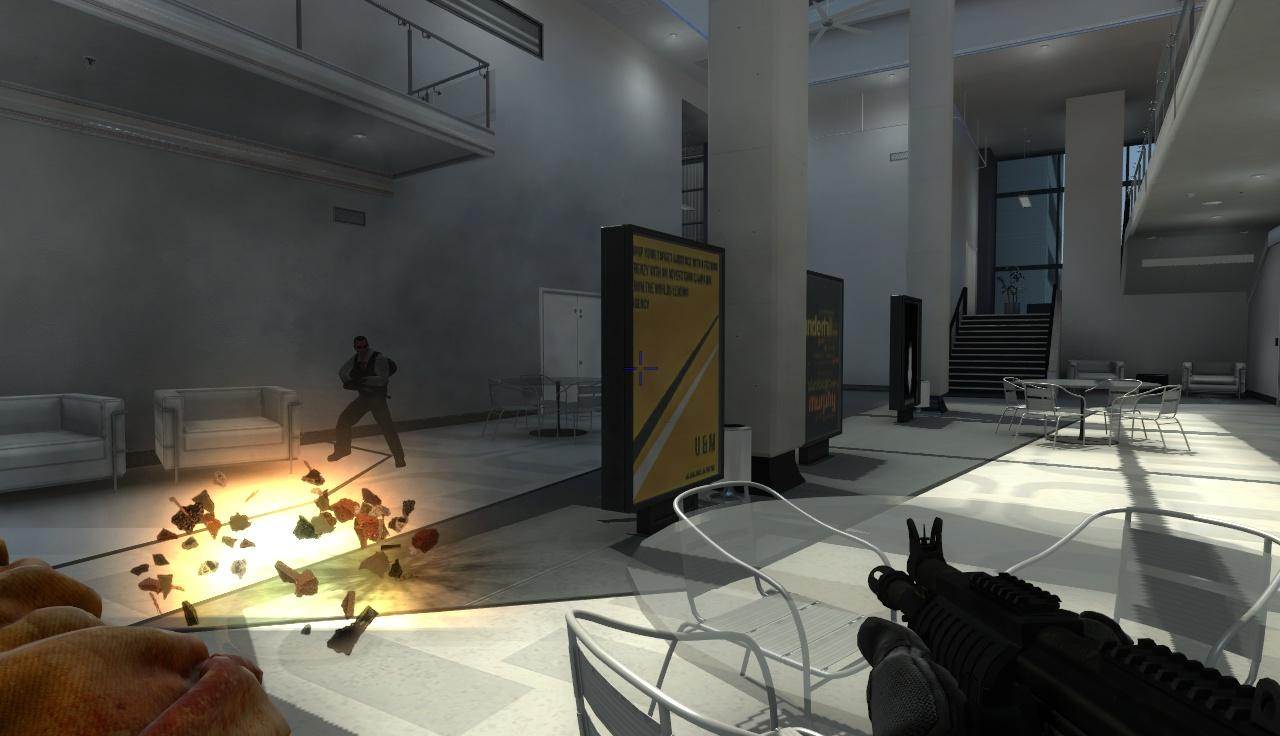rifle: (845, 497, 1280, 736)
tt: (338, 335, 389, 459)
tthead: (353, 336, 368, 355)
